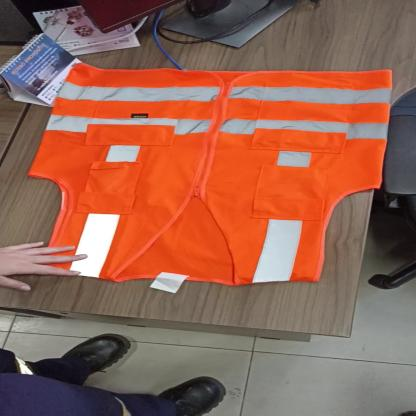colete: (29, 56, 393, 288)
